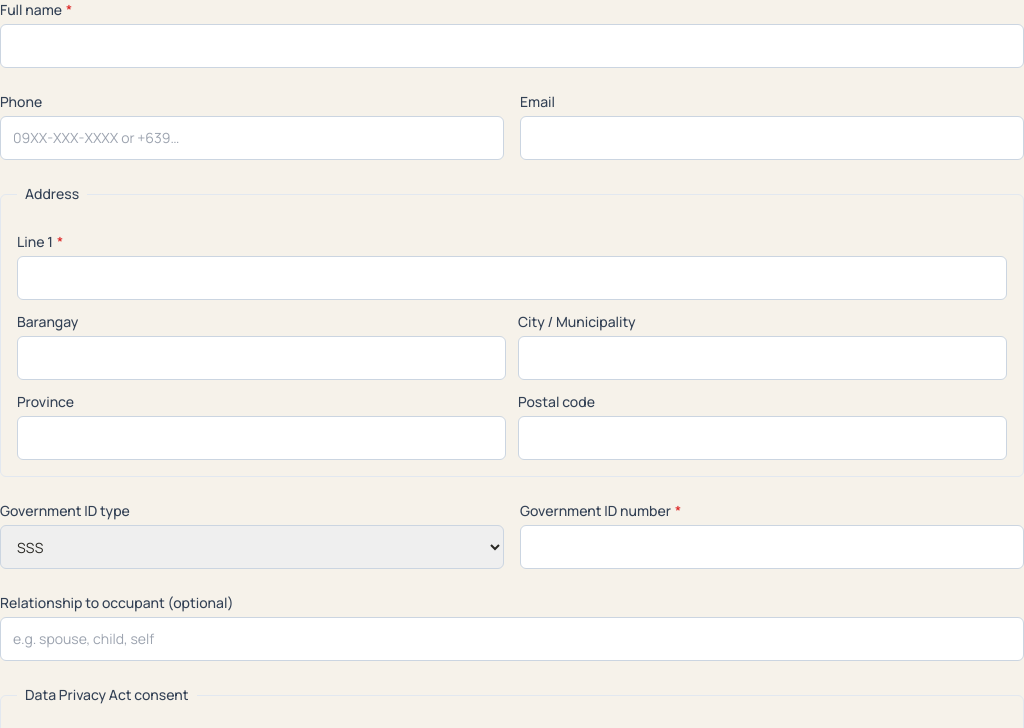
CustomerForm — AC5 dedupe alert › renders the alert with ***-***-LAST4 formatting when matches exist
Type "Mar" into the field labelled "Full name*" at (512, 46), box [0,24,1023,68]
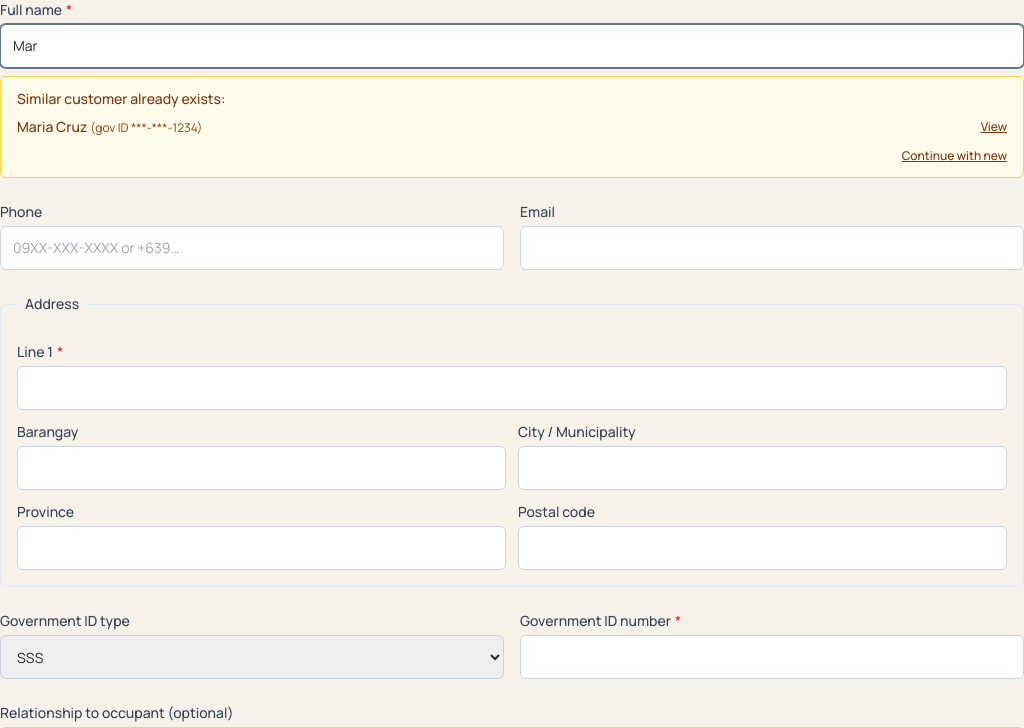
Now the message with test id "customer-dedupe-alert" shows "***-***-1234", box [0,76,1023,178]
Now the message with test id "customer-dedupe-alert" shows "Maria Cruz", box [17,117,87,136]
